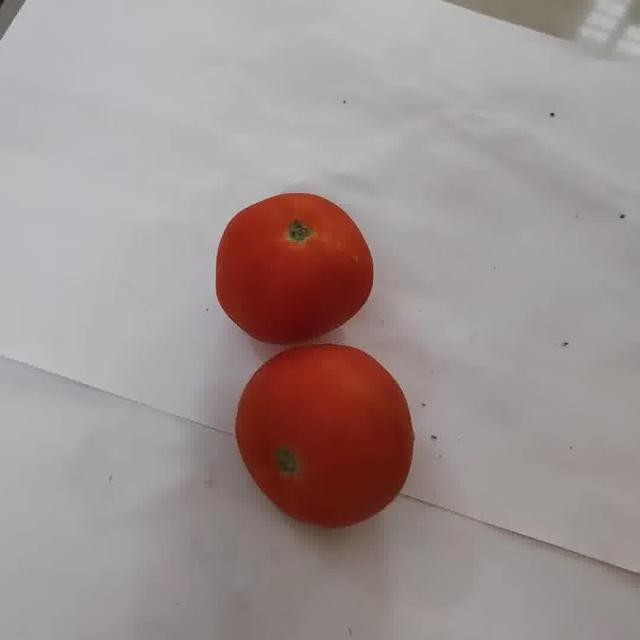Tomato: (235, 344, 414, 527), (215, 193, 373, 344)
